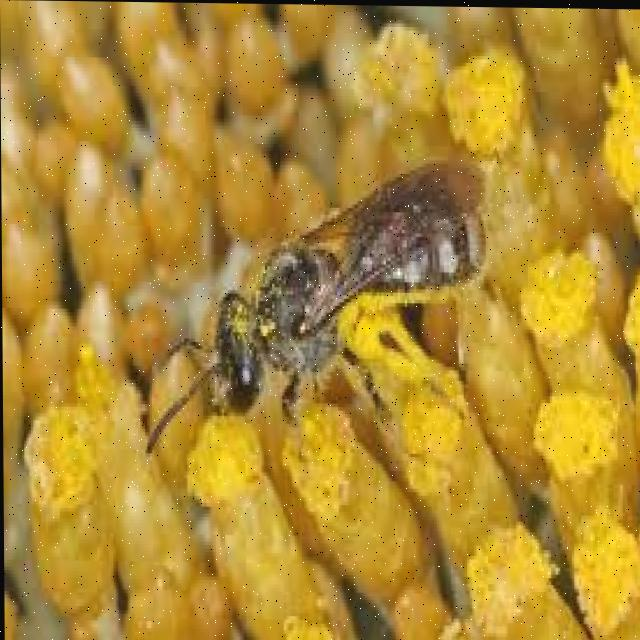Lasioglossum: (107, 145, 502, 430)
